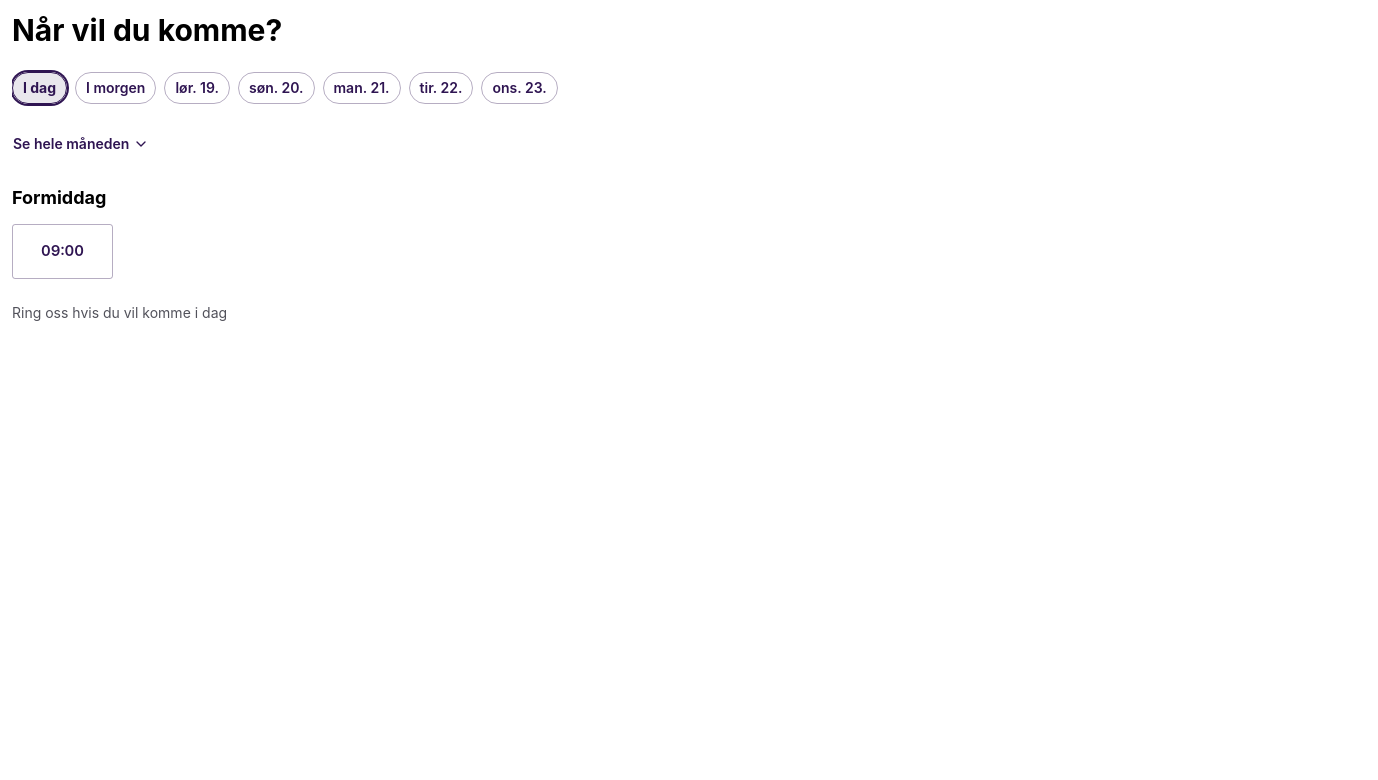
Test case: TimeScreen — keyboard › shows a week of chips and keeps the rest of the window in the month
Check: the button "15:00" is not shown
Click the button "Se hele måneden".
click(81, 144)  # box [12, 128, 150, 160]
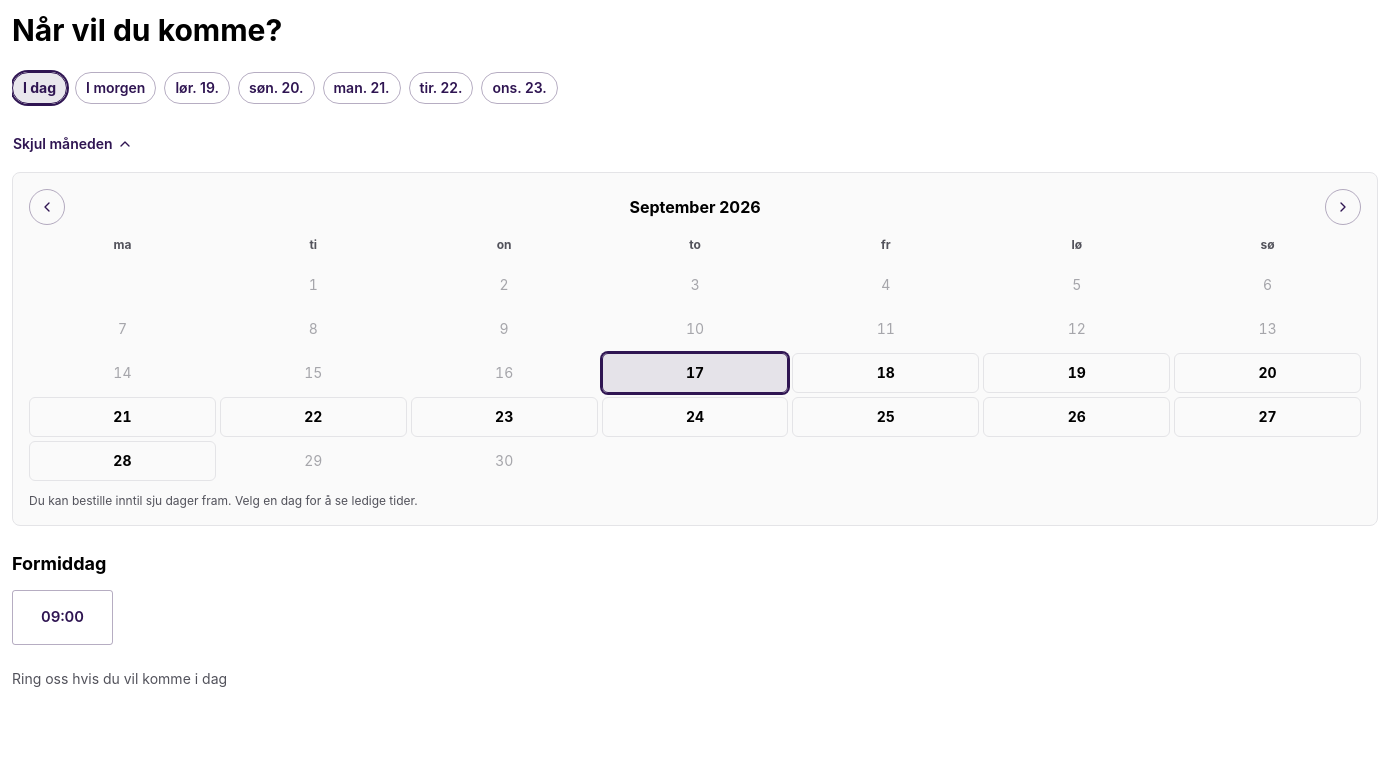
Click the button "28".
click(122, 461)  # box [29, 441, 216, 481]
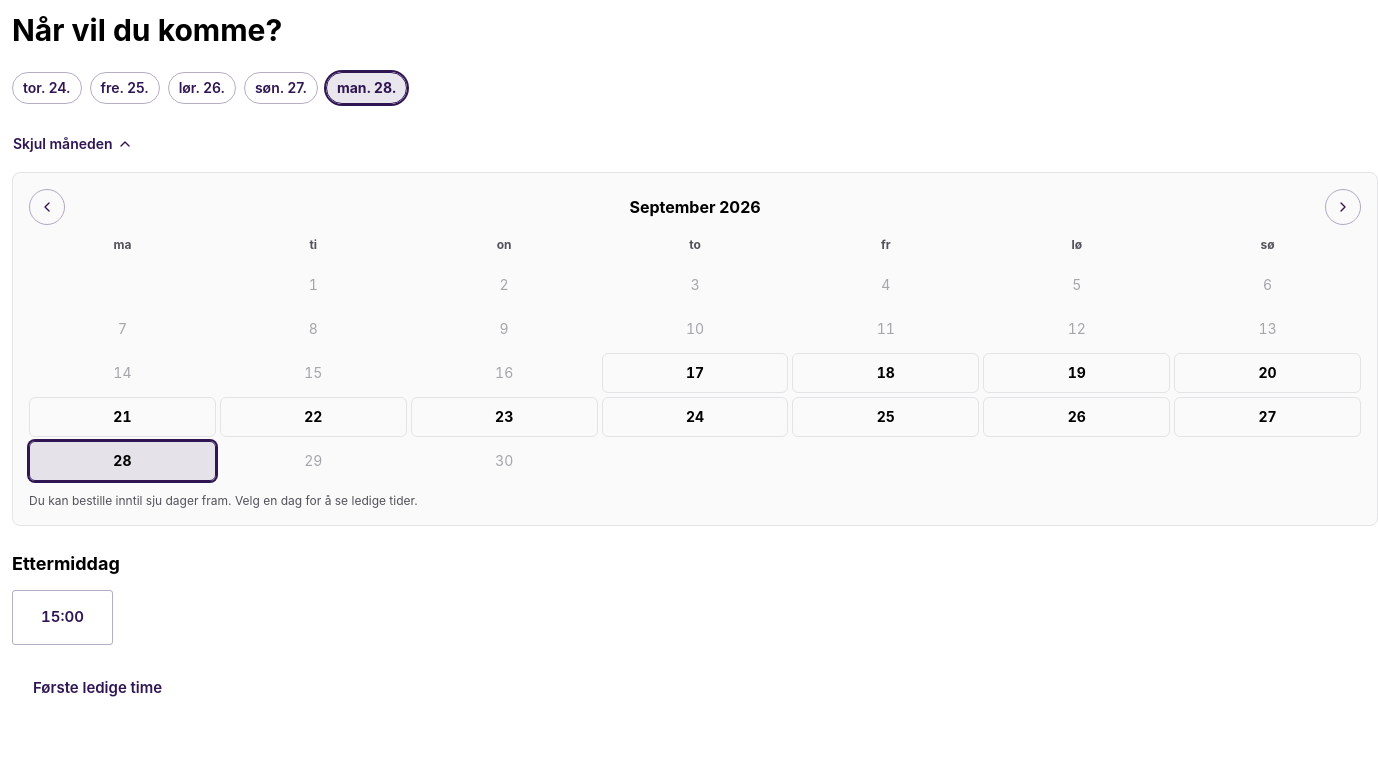
Check: the button "15:00" is shown, box [12, 590, 113, 644]
